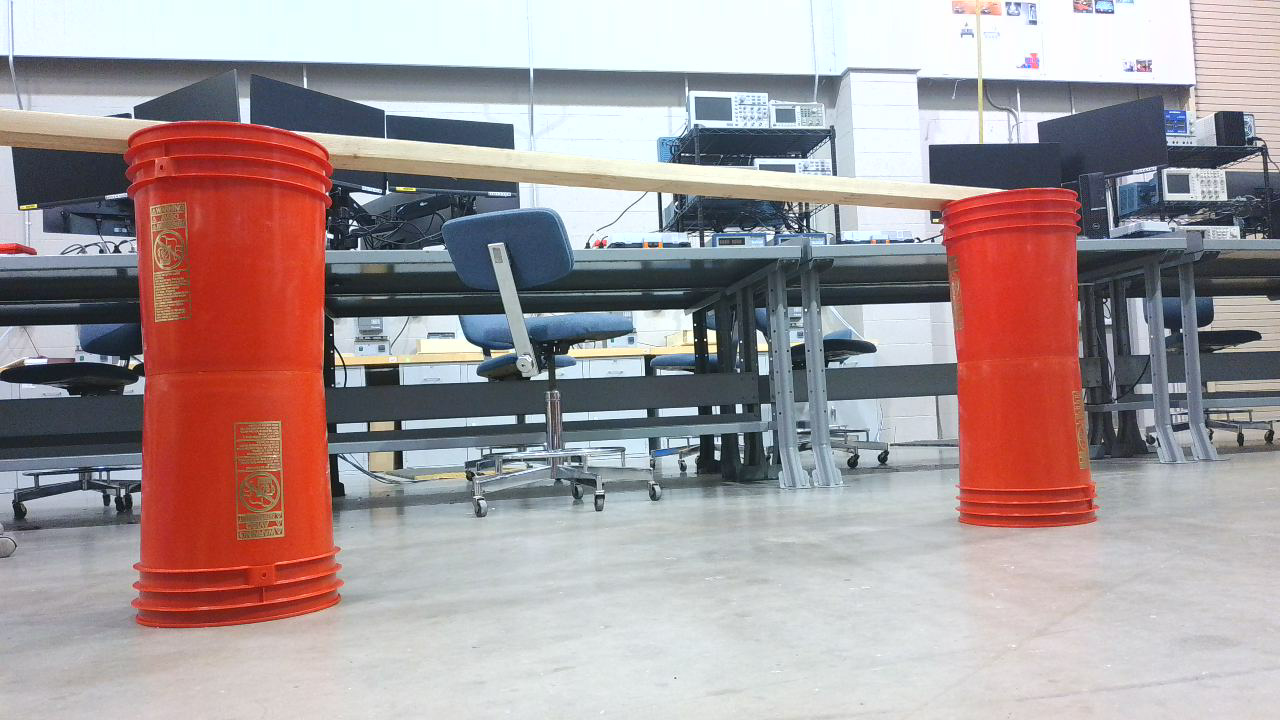red_bucket_arch: (124, 121, 1108, 644)
